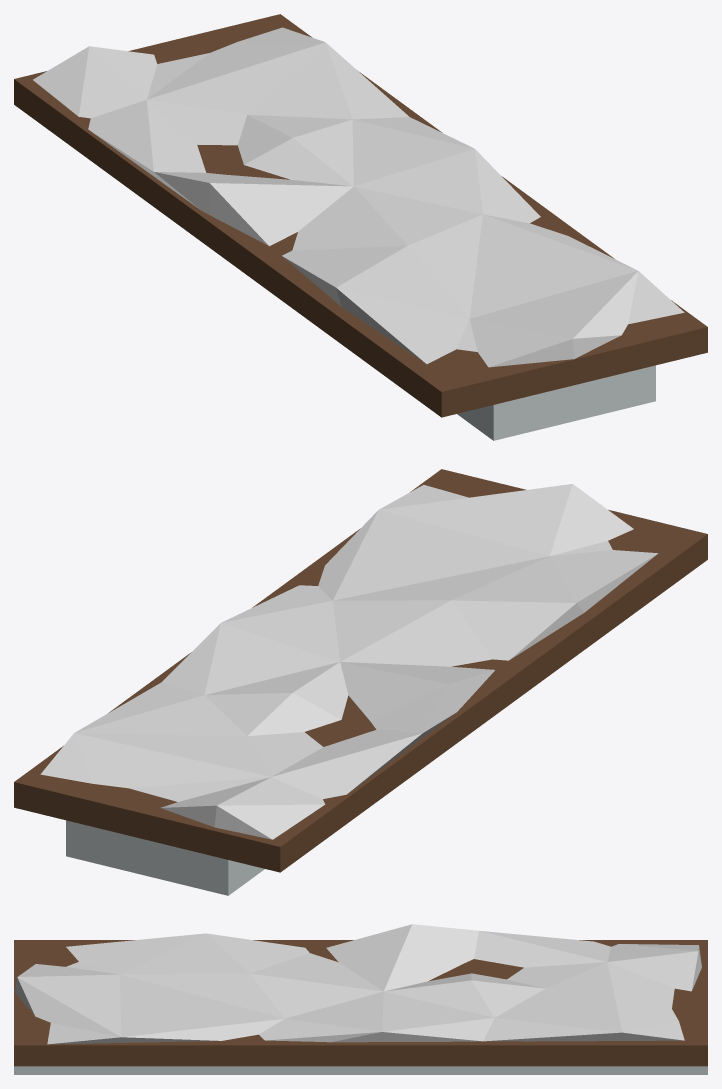
Rendered from Table_snow_mat.fbx.
3 views of the same model, one above another, from view 1: azimuth 30°, elevation 25°; view 2: azimuth 150°, elevation 25°; view 3: azimuth 270°, elevation 25° (orthographic). The views are drawn at different scales.
Parts seen in each view (by area): view 1: Table_mat; view 2: Table_mat; view 3: Table_mat.
Part boxes in pixels (<box>): Table_mat: <box>14,14,707,440</box>; Table_mat: <box>14,469,707,895</box>; Table_mat: <box>14,924,707,1074</box>.
Bounding box in the file's own units: 1 × 0.3133 × 2.77.
